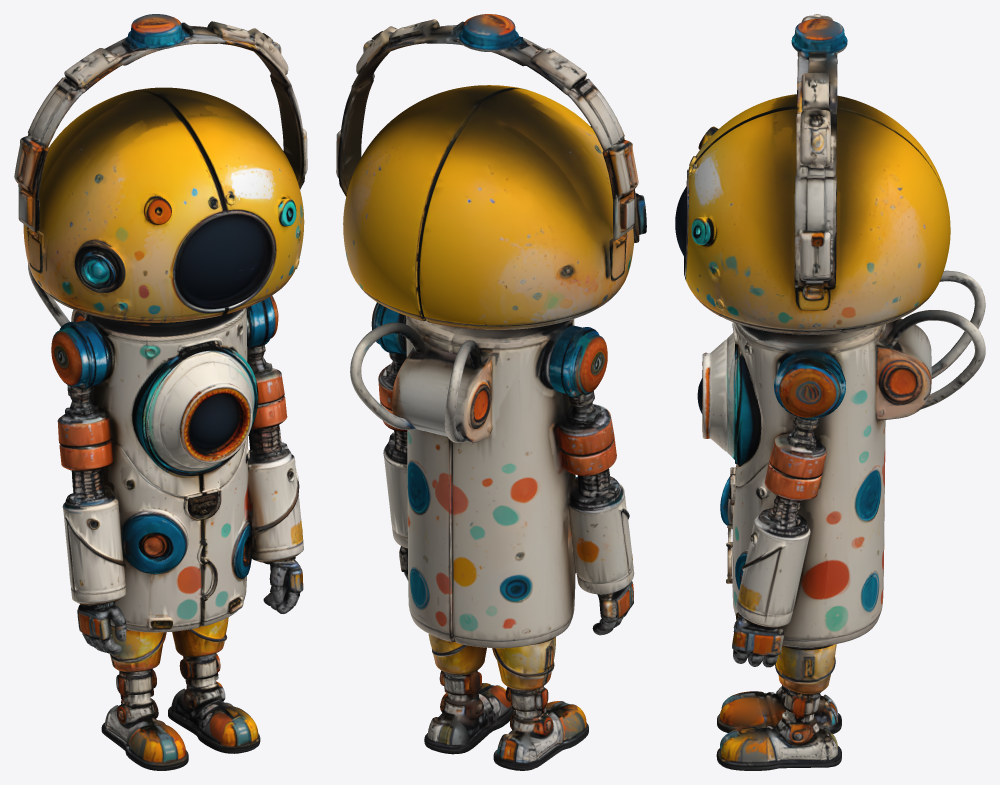
File: civilization-seeder.glb
3 renders of one model, left to right at view 1: azimuth 30°, elevation 25°; view 2: azimuth 150°, elevation 25°; view 3: azimuth 270°, elevation 25°, orthographic. The views are drawn at different scales.
Parts seen in each view (by area): view 1: node_0; view 2: node_0; view 3: node_0.
Boxes of the visible parts, x1=… form: node_0: x1=14, y1=14, x2=307, y2=770; node_0: x1=336, y1=14, x2=646, y2=770; node_0: x1=675, y1=14, x2=985, y2=770.
Size of the model in its own units: 0.4851 by 1.15 by 0.4522.
Materials: 1 (1 with a texture image).
